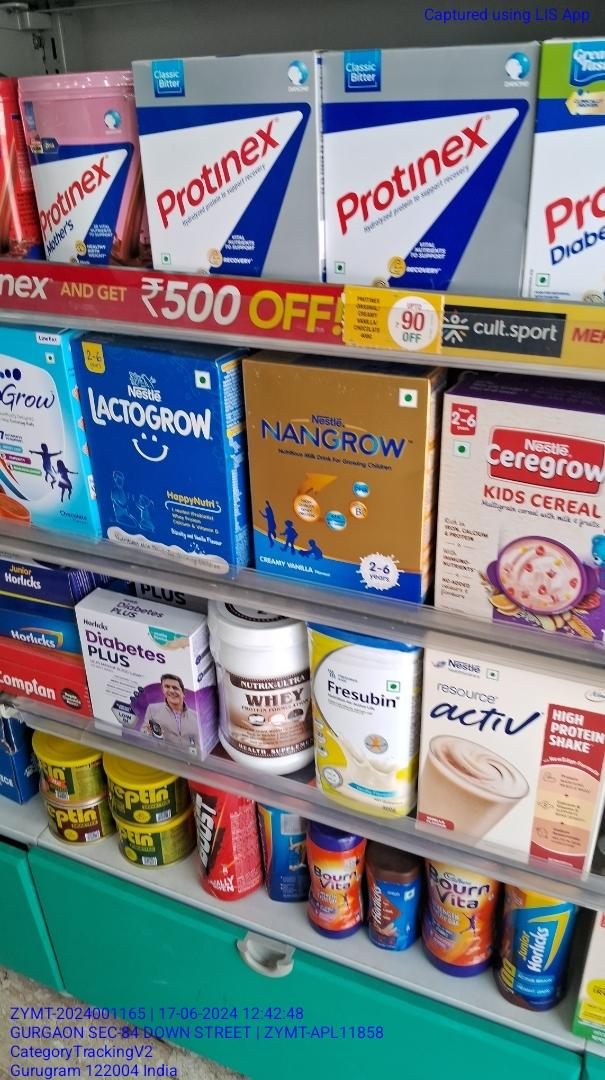BOURN_VITA_200_G_JAR: (306, 829, 362, 939)
BOURN_VITA_500_G_JAR: (424, 861, 492, 979)
HORLICKS_JUNIOR_VANILLA_500_GM_JAR: (497, 883, 568, 1012)
HORLICK_CHOCOLATE_200_G_JAR: (366, 860, 418, 950)
